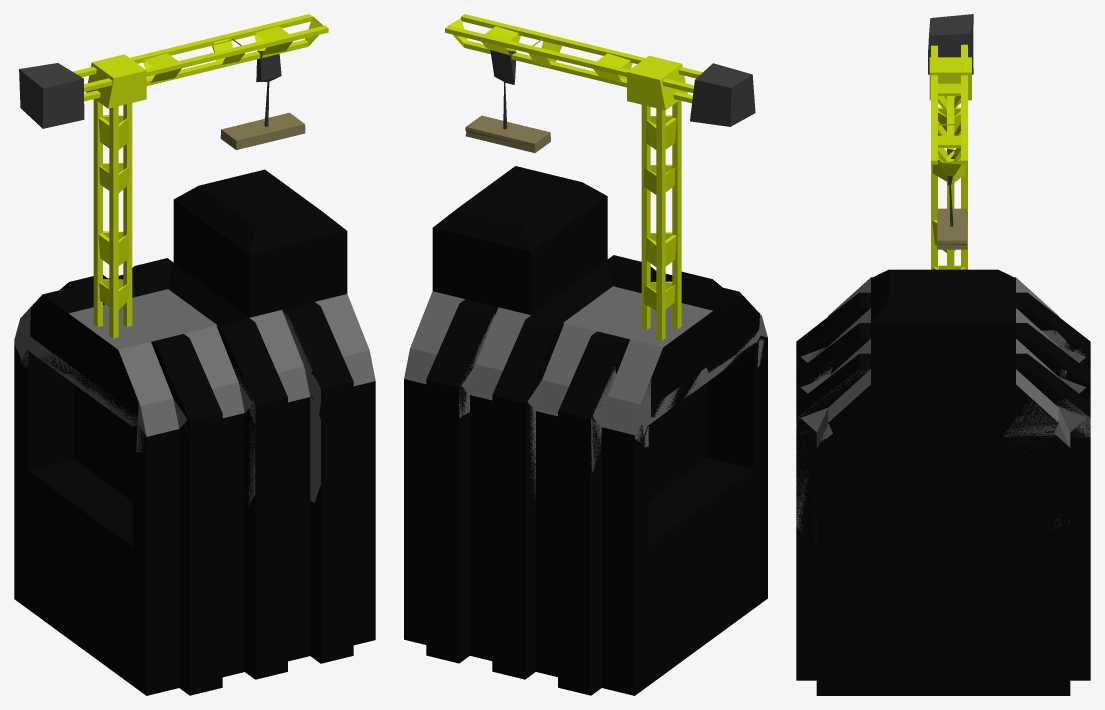
The model's file is Tower.fbx.
3 renders of one model, left to right at view 1: azimuth 30°, elevation 25°; view 2: azimuth 150°, elevation 25°; view 3: azimuth 270°, elevation 25°, orthographic. The views are drawn at different scales.
Parts seen in each view (by area): view 1: Tower Building, Crane, Tower Building_cell.056, Tower Building_cell.040, Tower Building_cell.067, Tower Building_cell.049, Tower Building_cell.057, Tower Building_cell.053, Tower Building_cell.007, Tower Building_cell.019, Tower Building_cell.055, Tower Building_cell.009 (+17 smaller); view 2: Tower Building, Crane, Tower Building_cell.027, Tower Building_cell.067, Tower Building_cell, Tower Building_cell.034, Tower Building_cell.028, Tower Building_cell.036, Tower Building_cell.055, Tower Building_cell.008, Tower Building_cell.043, Tower Building_cell.021 (+15 smaller); view 3: Tower Building, Crane, Tower Building_cell.049, Tower Building_cell.064, Tower Building_cell.010, Tower Building_cell, Tower Building_cell.025, Tower Building_cell.040, Tower Building_cell.047, Tower Building_cell.028, Tower Building_cell.031, Tower Building_cell.007 (+7 smaller).
Boxes of the visible parts, x1=… form: Tower Building: x1=14, y1=169, x2=375, y2=695; Crane: x1=19, y1=14, x2=328, y2=338; Tower Building_cell.056: x1=205, y1=497, x2=375, y2=656; Tower Building_cell.040: x1=238, y1=278, x2=373, y2=398; Tower Building_cell.067: x1=27, y1=484, x2=117, y2=658; Tower Building_cell.049: x1=288, y1=373, x2=375, y2=511; Tower Building_cell.057: x1=28, y1=368, x2=111, y2=490; Tower Building_cell.053: x1=242, y1=232, x2=350, y2=302; Tower Building_cell.007: x1=202, y1=295, x2=271, y2=406; Tower Building_cell.019: x1=136, y1=369, x2=203, y2=452; Tower Building_cell.055: x1=184, y1=202, x2=248, y2=297; Tower Building_cell.009: x1=260, y1=352, x2=353, y2=422; Tower Building: x1=404, y1=166, x2=767, y2=695; Crane: x1=445, y1=14, x2=755, y2=340; Tower Building_cell.027: x1=505, y1=570, x2=707, y2=695; Tower Building_cell.067: x1=648, y1=495, x2=738, y2=641; Tower Building_cell: x1=404, y1=402, x2=498, y2=564; Tower Building_cell.034: x1=558, y1=459, x2=640, y2=599; Tower Building_cell.028: x1=439, y1=309, x2=533, y2=373; Tower Building_cell.036: x1=447, y1=590, x2=525, y2=679; Tower Building_cell.055: x1=538, y1=192, x2=600, y2=288; Tower Building_cell.008: x1=680, y1=406, x2=757, y2=549; Tower Building_cell.043: x1=696, y1=354, x2=767, y2=419; Tower Building_cell.021: x1=559, y1=403, x2=634, y2=474; Tower Building: x1=796, y1=269, x2=1090, y2=695; Crane: x1=928, y1=14, x2=973, y2=269; Tower Building_cell.049: x1=796, y1=410, x2=888, y2=573; Tower Building_cell.064: x1=818, y1=554, x2=928, y2=695; Tower Building_cell.010: x1=927, y1=312, x2=1025, y2=436; Tower Building_cell: x1=1026, y1=444, x2=1090, y2=554; Tower Building_cell.025: x1=796, y1=583, x2=848, y2=695; Tower Building_cell.040: x1=796, y1=339, x2=884, y2=440; Tower Building_cell.047: x1=1004, y1=396, x2=1090, y2=437; Tower Building_cell.028: x1=1016, y1=336, x2=1082, y2=406; Tower Building_cell.031: x1=880, y1=415, x2=1024, y2=563; Tower Building_cell.007: x1=798, y1=323, x2=870, y2=374.
Bounding box in the file's own units: 2083 × 3999 × 1925.
